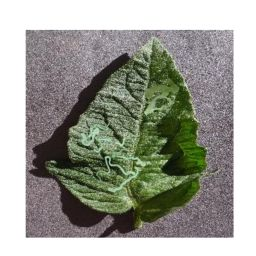liriomyza: (80, 122, 145, 192), (143, 79, 179, 116)
